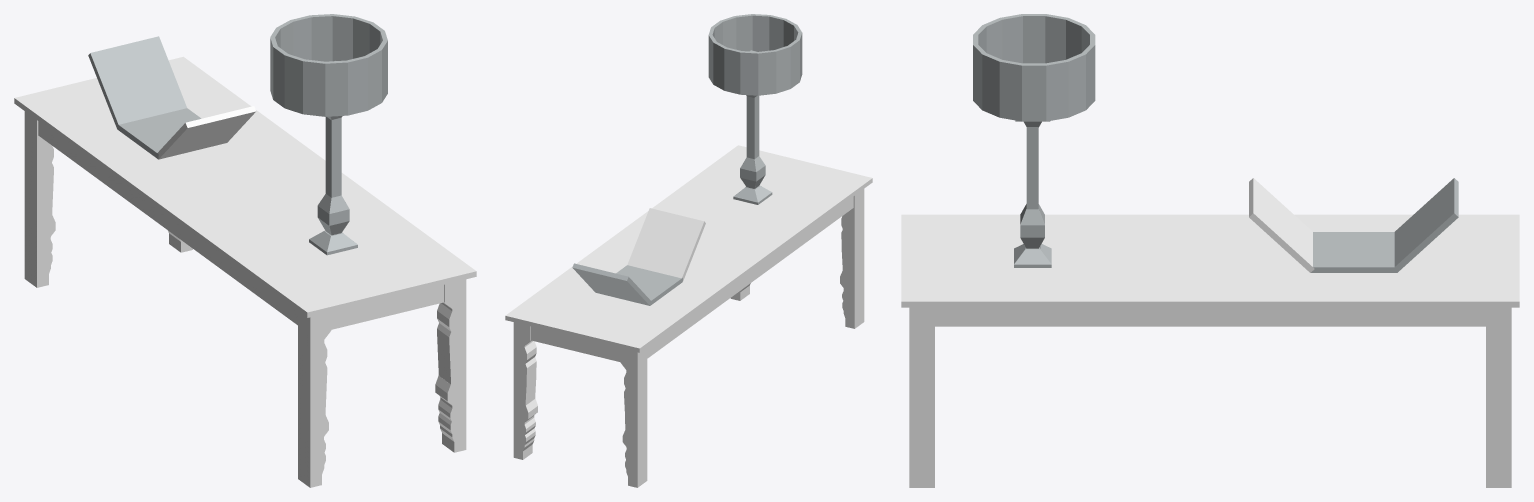
File: white_table_2.obj
3 views of the same model, side by side, from view 1: azimuth 30°, elevation 25°; view 2: azimuth 150°, elevation 25°; view 3: azimuth 270°, elevation 25° (orthographic). The views are drawn at different scales.
Visible parts, largest first — view 1: cube, cube.003, cube.093, cube.065, cube.005, cube.002, cube.009, cube.007, cube.000, hexadecagon.030, hexadecagon.005, hexadecagon.004 (+9 smaller); view 2: cube, cube.002, cube.065, cube.005, cube.093, cube.003, cube.037, cube.004, cube.000, hexadecagon.030, hexadecagon.002, hexadecagon.003 (+9 smaller); view 3: cube, cube.006, cube.037, cube.009, cube.000, cube.003, cube.002, hexadecagon.013, hexadecagon.012, hexadecagon.014, hexadecagon.010, hexadecagon.030 (+4 smaller).
Part boxes in pixels (<box>): cube: <box>14,56,476,317</box>; cube.003: <box>88,36,186,128</box>; cube.093: <box>298,311,321,487</box>; cube.065: <box>24,111,48,287</box>; cube.005: <box>38,121,297,325</box>; cube.002: <box>157,106,256,159</box>; cube.009: <box>442,280,466,452</box>; cube.007: <box>331,285,444,329</box>; cube.000: <box>117,108,201,159</box>; hexadecagon.030: <box>325,61,341,197</box>; hexadecagon.005: <box>324,60,347,116</box>; hexadecagon.004: <box>303,59,325,116</box>; cube: <box>505,145,872,352</box>; cube.002: <box>627,208,705,281</box>; cube.065: <box>628,349,647,487</box>; cube.005: <box>647,196,853,358</box>; cube.093: <box>845,192,864,328</box>; cube.003: <box>572,263,650,305</box>; cube.037: <box>513,323,532,459</box>; cube.004: <box>531,326,620,362</box>; cube.000: <box>616,265,682,305</box>; hexadecagon.030: <box>746,50,759,159</box>; hexadecagon.002: <box>740,51,758,95</box>; hexadecagon.003: <box>757,50,776,95</box>; cube: <box>901,214,1519,307</box>; cube.006: <box>935,307,1485,326</box>; cube.037: <box>1486,307,1511,487</box>; cube.009: <box>909,307,934,487</box>; cube.000: <box>1311,232,1397,272</box>; cube.003: <box>1393,178,1458,272</box>; cube.002: <box>1249,178,1314,272</box>; hexadecagon.013: <box>1022,63,1046,121</box>; hexadecagon.012: <box>999,60,1021,121</box>; hexadecagon.014: <box>1046,60,1068,121</box>; hexadecagon.010: <box>1022,14,1046,63</box>; hexadecagon.030: <box>1026,127,1038,209</box>.
Bounding box in the file's own units: 1 × 2.18 × 3.
